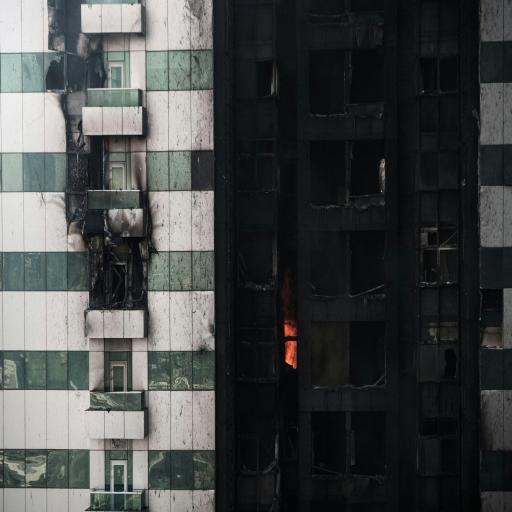buildingfire: (217, 44, 468, 512)
